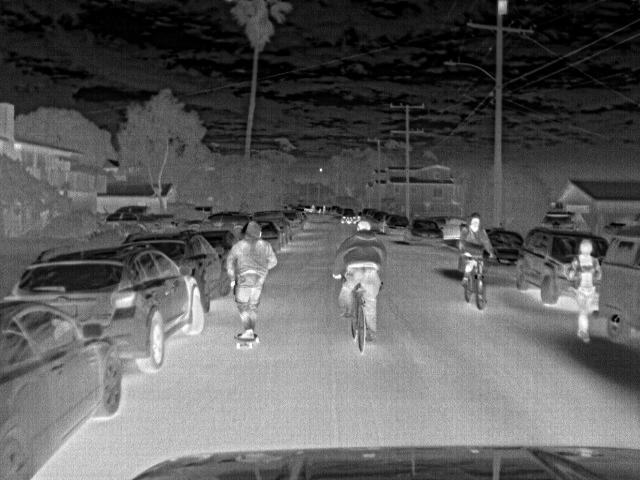car: (12, 244, 209, 368), (1, 296, 124, 479), (123, 227, 229, 308), (514, 228, 606, 304), (592, 233, 639, 342), (186, 211, 254, 240), (114, 204, 178, 232), (102, 210, 160, 234), (486, 229, 525, 264), (408, 218, 444, 252), (260, 209, 294, 245), (436, 215, 470, 241), (383, 213, 411, 243), (541, 209, 576, 232), (608, 212, 640, 237), (281, 210, 305, 232)
person: (220, 220, 278, 342), (338, 218, 385, 338), (569, 236, 602, 345), (460, 214, 496, 290)
